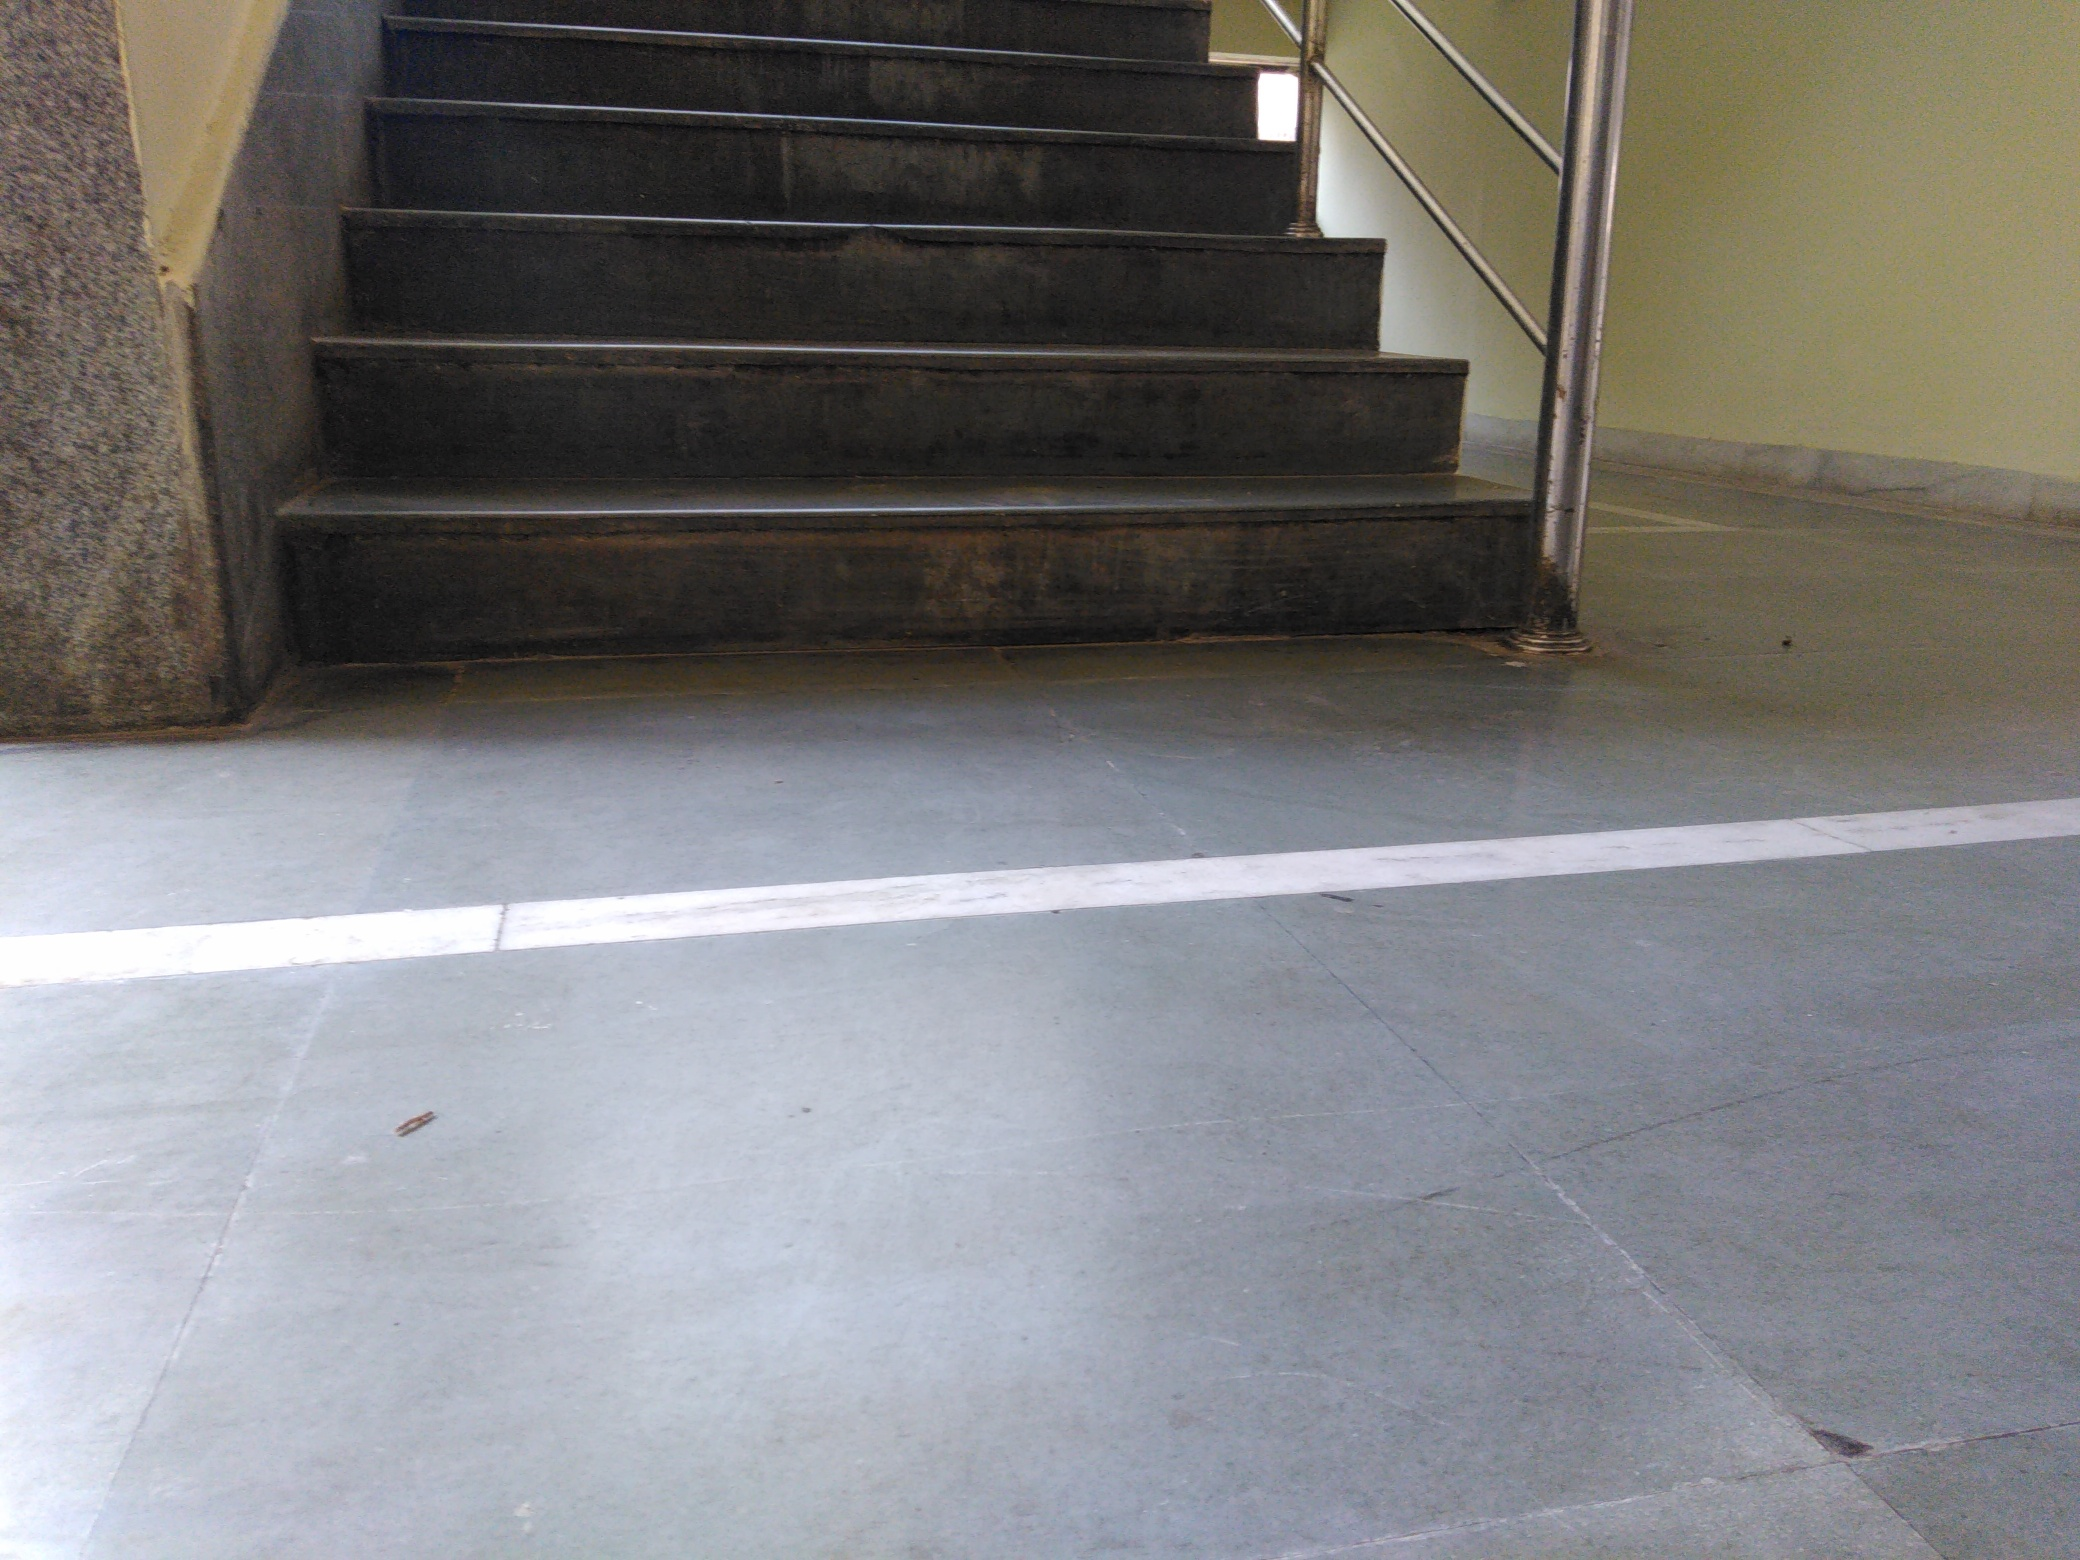stairs_up: (293, 33, 1510, 641)
